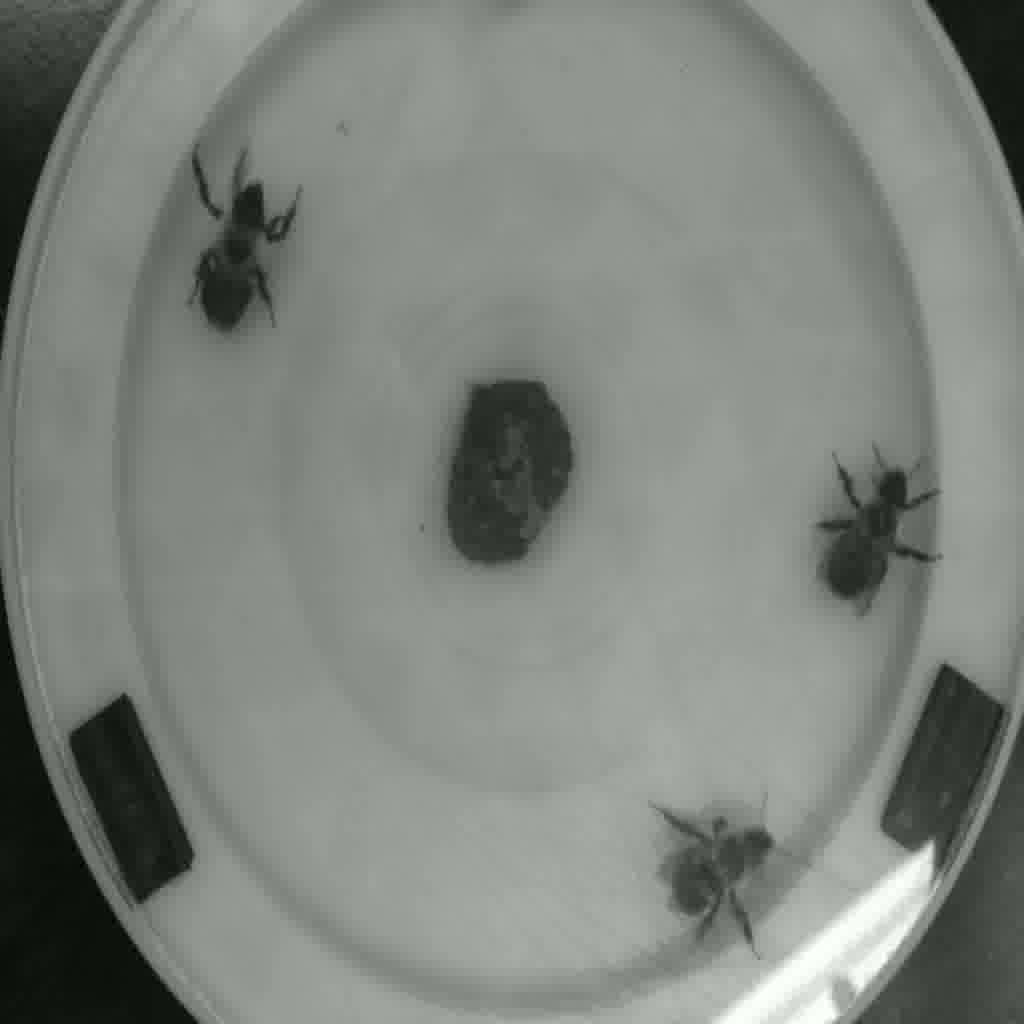bee: (180, 136, 324, 357), (639, 789, 806, 977), (809, 424, 942, 633)
